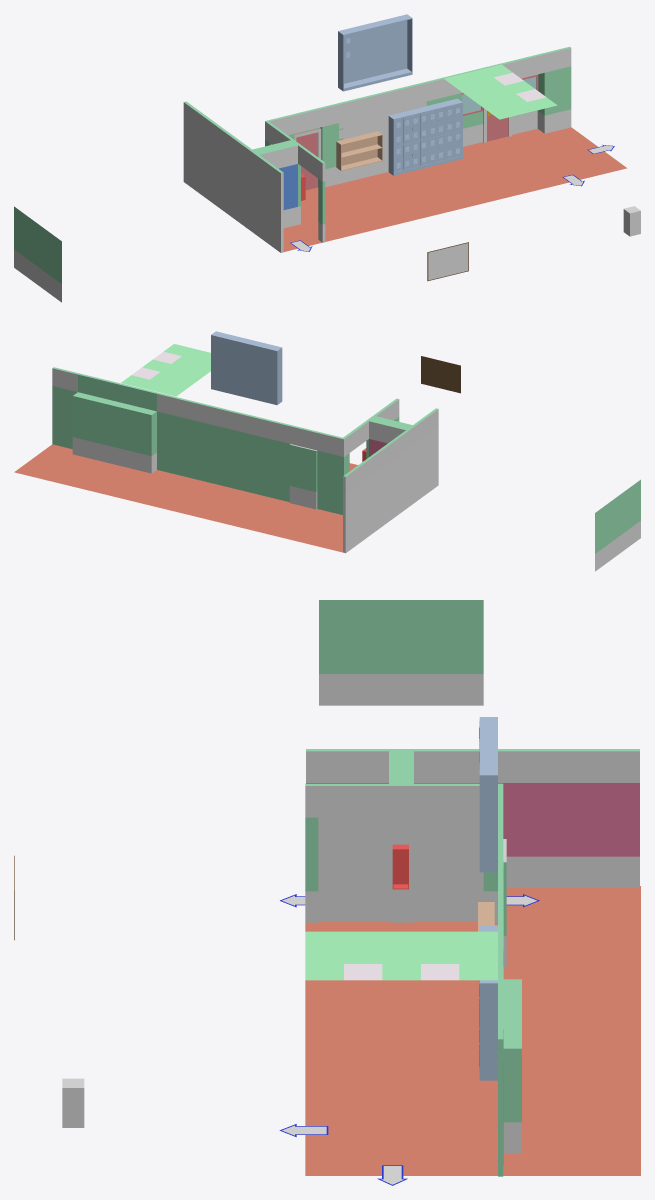
Rendered from school_hallway_02_c.glb.
3 renders of one model, top to bottom at view 1: azimuth 30°, elevation 25°; view 2: azimuth 150°, elevation 25°; view 3: azimuth 270°, elevation 25°, orthographic. The views are drawn at different scales.
Parts seen in each view (by area): view 1: walls, floor, lockers, outer frame.001, Plane, Plane.006, Plane.004, cupboard, Cube, door and windows, Plane.007, door single (+1 smaller); view 2: walls, floor, Plane.007, outer frame.001, Plane, Plane.006, Cube; view 3: floor, walls, Plane.006, Plane.005, Plane, outer frame.001, lockers, Cube.001.
Boxes of the visible parts, x1,y1,x2,y2 form: walls: [183, 46, 571, 252]; floor: [282, 127, 626, 252]; lockers: [388, 98, 462, 175]; outer frame.001: [338, 14, 412, 91]; Plane: [444, 64, 557, 119]; Plane.006: [14, 206, 61, 302]; Plane.004: [343, 101, 426, 182]; cupboard: [336, 131, 382, 170]; Cube: [427, 242, 468, 281]; door and windows: [462, 74, 538, 142]; Plane.007: [463, 110, 537, 146]; door single: [294, 128, 321, 190]; walls: [52, 367, 438, 553]; floor: [14, 444, 357, 552]; Plane.007: [72, 396, 151, 473]; outer frame.001: [211, 331, 282, 404]; Plane: [121, 344, 210, 396]; Plane.006: [595, 479, 640, 571]; Cube: [421, 356, 460, 393]; floor: [305, 886, 640, 1175]; walls: [305, 749, 639, 1176]; Plane.006: [319, 600, 483, 705]; Plane.005: [318, 816, 483, 921]; Plane: [305, 931, 497, 980]; outer frame.001: [479, 717, 497, 872]; lockers: [479, 925, 497, 1080]; Cube.001: [62, 1078, 84, 1127].
Size of the model in its own units: 20.73 by 5.4 by 11.4.
